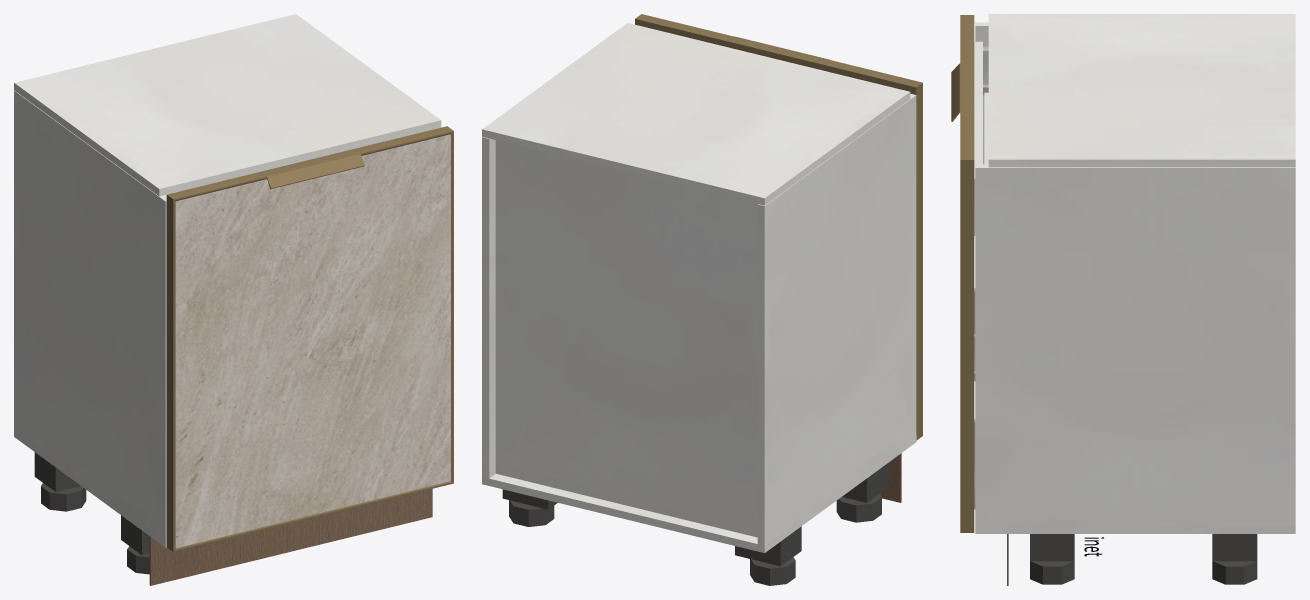
Rendered from BC-GD-TTS-ST-1BL-1HF-XXX-600-720-560-15.glb.
3 views of the same model, side by side, from view 1: azimuth 30°, elevation 25°; view 2: azimuth 150°, elevation 25°; view 3: azimuth 270°, elevation 25° (orthographic). The views are drawn at different scales.
Visible parts, largest first — view 1: Object_node_61, TP_node, TP_node_1, Object_node_63, Extrusion_node_4, ExtrSplGeo, Extrusion_node, TP, Extrusion_node_3, Extrusion_node_2, Foot, Plate (+1 smaller); view 2: TP_node_7, TP_node, TP_node_1, TP, TP_node_0, Extrusion_node_4, Extrusion_node, ExtrSplGeo, Plate, Foot, Foot_node_0, Foot_node (+2 smaller); view 3: TP_node_0, TP_node_1, Extrusion_node_2, TP, Extrusion_node, Plate_node, TP_node_6, Plate_node_1, ExtrSplGeo, Foot_node, Foot_node_1, TP_node.
Boxes of the visible parts, x1=… form: Object_node_61: x1=175, y1=134, x2=450, y2=547; TP_node: x1=14, y1=90, x2=166, y2=540; TP_node_1: x1=14, y1=14, x2=441, y2=196; Object_node_63: x1=149, y1=489, x2=432, y2=585; Extrusion_node_4: x1=166, y1=195, x2=175, y2=551; ExtrSplGeo: x1=260, y1=149, x2=364, y2=189; Extrusion_node: x1=167, y1=126, x2=453, y2=200; TP: x1=14, y1=429, x2=166, y2=547; Extrusion_node_3: x1=173, y1=481, x2=453, y2=551; Extrusion_node_2: x1=451, y1=131, x2=453, y2=483; Foot: x1=41, y1=483, x2=86, y2=511; Plate: x1=34, y1=452, x2=80, y2=491; TP_node_7: x1=495, y1=140, x2=757, y2=537; TP_node: x1=757, y1=93, x2=916, y2=545; TP_node_1: x1=482, y1=23, x2=910, y2=205; TP: x1=482, y1=435, x2=916, y2=553; TP_node_0: x1=482, y1=137, x2=495, y2=478; Extrusion_node_4: x1=910, y1=83, x2=922, y2=439; Extrusion_node: x1=635, y1=14, x2=922, y2=91; ExtrSplGeo: x1=728, y1=36, x2=829, y2=70; Plate: x1=735, y1=526, x2=801, y2=566; Foot: x1=750, y1=557, x2=795, y2=585; Foot_node_0: x1=836, y1=494, x2=881, y2=522; Foot_node: x1=509, y1=500, x2=554, y2=526; TP_node_0: x1=975, y1=164, x2=1295, y2=526; TP_node_1: x1=988, y1=14, x2=1295, y2=167; Extrusion_node_2: x1=960, y1=160, x2=974, y2=532; TP: x1=975, y1=526, x2=1295, y2=533; Extrusion_node: x1=960, y1=15, x2=974, y2=159; Plate_node: x1=1212, y1=534, x2=1257, y2=561; TP_node_6: x1=974, y1=41, x2=982, y2=235; Plate_node_1: x1=1030, y1=534, x2=1074, y2=561; ExtrSplGeo: x1=951, y1=63, x2=974, y2=121; Foot_node: x1=1212, y1=561, x2=1257, y2=584; Foot_node_1: x1=1030, y1=561, x2=1074, y2=584; TP_node: x1=975, y1=22, x2=988, y2=164.
Size of what is drawn, in the model's own units: 0.6 by 0.82 by 0.6.
8 materials, 3 textured.
